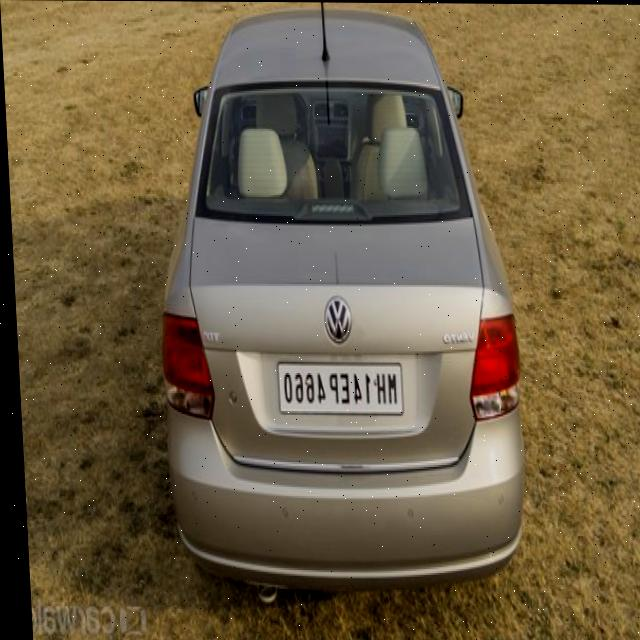plate: (273, 360, 401, 415)
